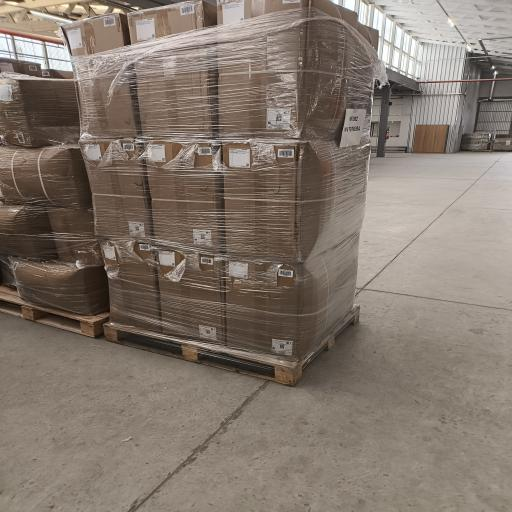pallet: (104, 306, 359, 386), (0, 286, 109, 337)
